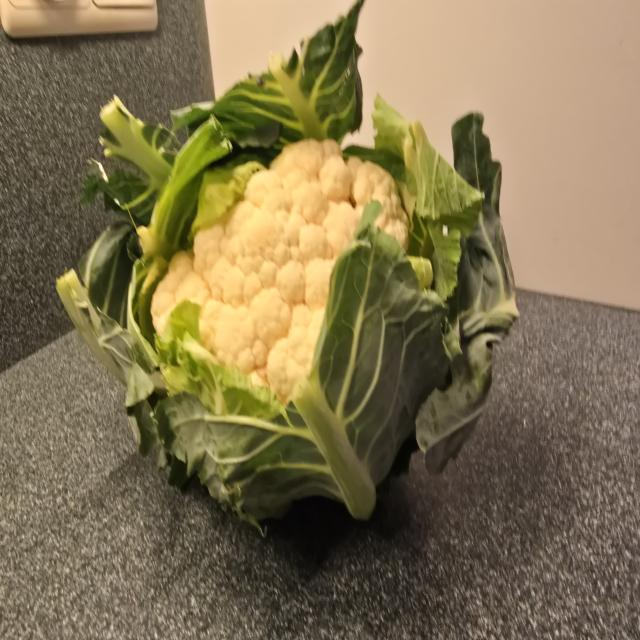Cauliflower: (62, 32, 526, 535)
